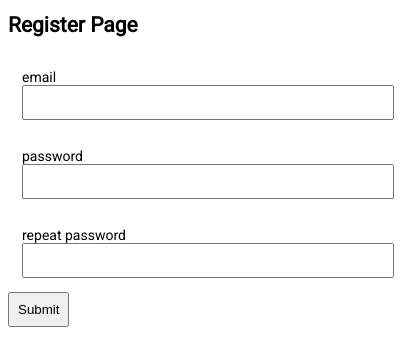
Integration::Registration › should display missing password error
This screenshot has width=411, height=360.
Type "foo22@bar.com" into the field with test id "email". click: (208, 102)
box: [22,85,394,120]
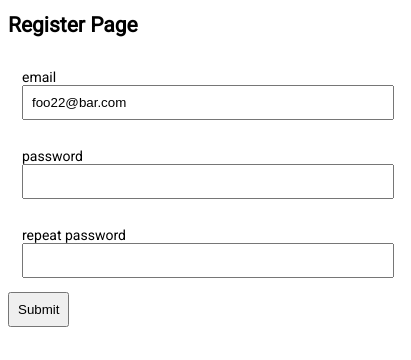
Click the button "Submit". click: click(39, 309)
box: [8,292,70,327]
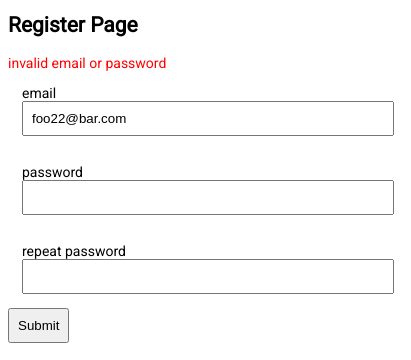
Expected: the text with test id "errors" shows "invalid", [8,55,166,71]
